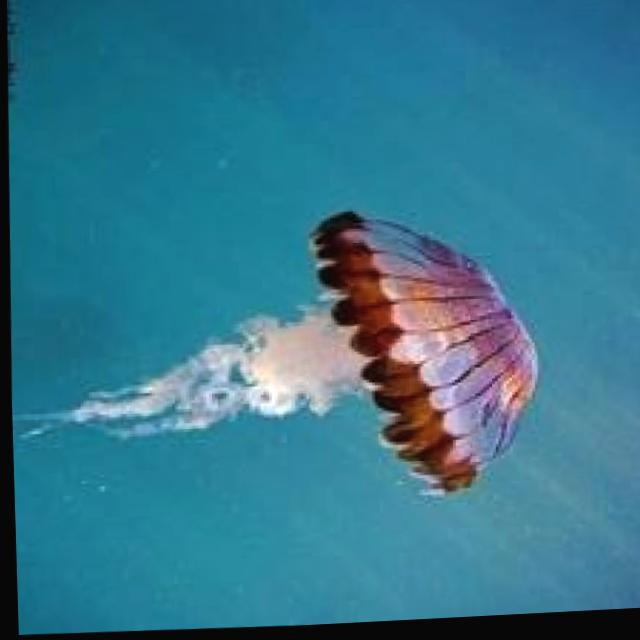Jellyfish: (5, 198, 544, 521)
